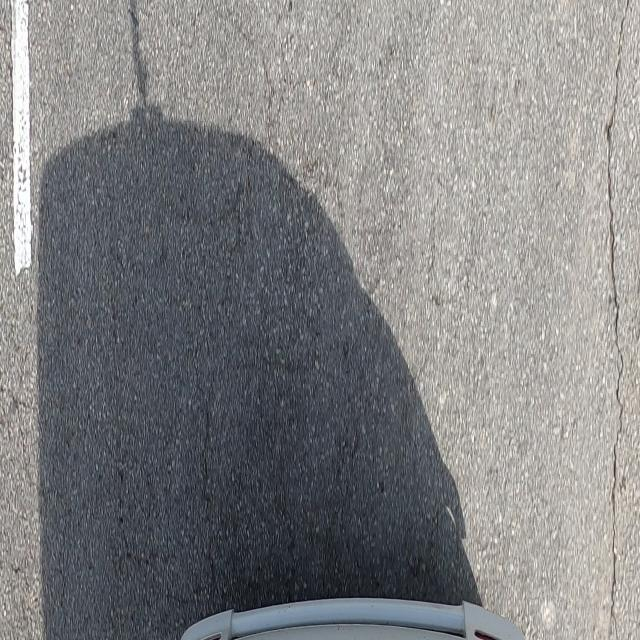Retak-Memanjang: (602, 0, 630, 640)
